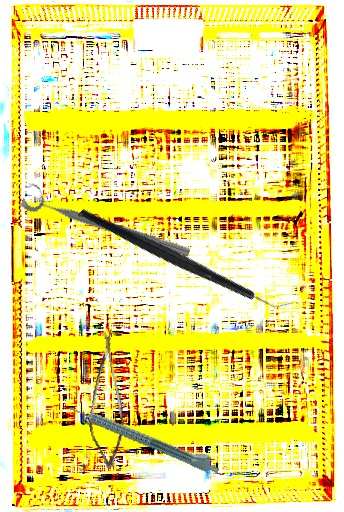Chopper: (76, 147, 296, 370)
Fixation Ring: (19, 180, 196, 263)
Handpiece: (67, 396, 224, 477)
Micro Scissor: (70, 328, 140, 470)
